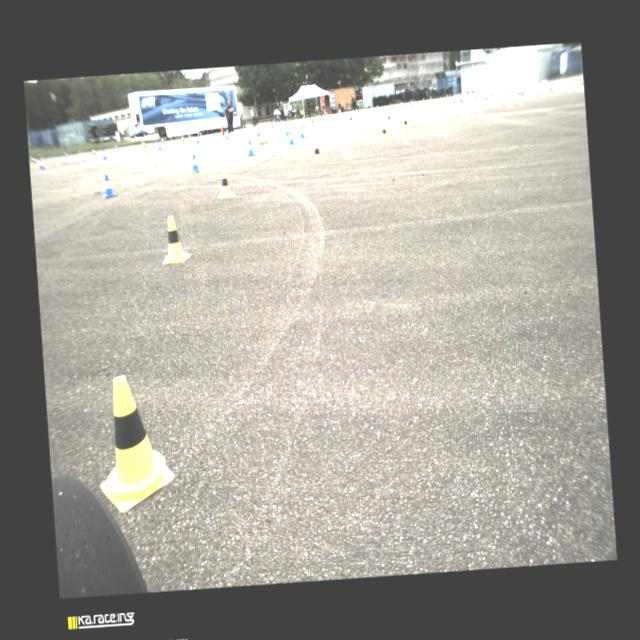blue_cone: (100, 172, 116, 198), (188, 152, 200, 172), (246, 138, 256, 156), (298, 125, 305, 138), (288, 130, 294, 144), (38, 158, 45, 170), (101, 148, 108, 160), (254, 126, 260, 136), (194, 134, 200, 144), (224, 130, 230, 140), (284, 124, 289, 135), (157, 140, 162, 150), (482, 92, 488, 100), (458, 94, 463, 102), (472, 92, 477, 100), (489, 88, 494, 96), (547, 82, 552, 90), (505, 85, 509, 94), (520, 86, 524, 95), (114, 144, 118, 150), (64, 152, 68, 156), (160, 137, 163, 142), (200, 132, 202, 136), (280, 119, 282, 123), (302, 115, 304, 119), (336, 110, 338, 114), (355, 107, 357, 111), (376, 104, 378, 108), (446, 94, 448, 98), (422, 98, 424, 101)
large_orange_cone: (338, 106, 342, 114), (324, 109, 326, 116)
yellow_cone: (92, 372, 176, 513), (159, 213, 190, 265), (217, 168, 234, 198), (309, 138, 324, 164), (378, 122, 388, 141), (400, 116, 410, 130), (515, 88, 521, 100), (347, 114, 353, 125), (578, 79, 584, 90), (386, 111, 391, 122), (92, 148, 97, 158), (409, 100, 414, 110), (142, 142, 147, 151), (310, 116, 314, 125), (181, 136, 185, 144), (270, 122, 274, 130), (418, 99, 422, 107), (452, 98, 456, 106), (78, 149, 82, 156), (390, 104, 394, 111), (438, 96, 442, 103), (226, 129, 229, 137), (401, 102, 404, 110), (448, 93, 451, 98), (140, 139, 142, 146), (220, 128, 222, 134), (242, 124, 244, 130), (352, 106, 354, 112), (429, 96, 432, 100), (188, 133, 190, 138), (369, 105, 372, 108), (286, 118, 288, 122), (326, 112, 328, 116), (389, 102, 391, 105), (307, 114, 308, 119)
